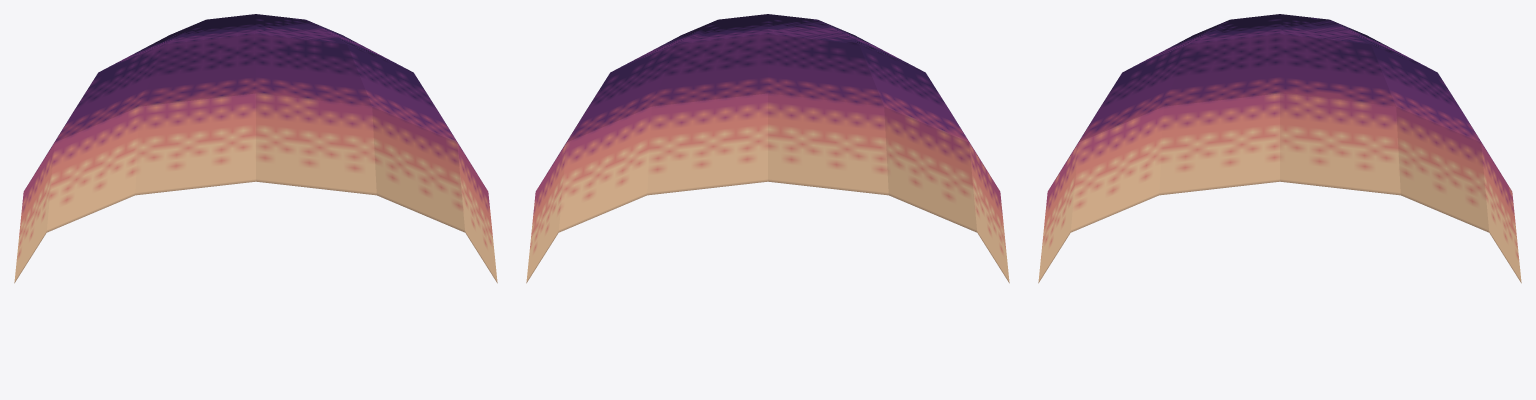
File: skyx.starfield.glb
3 renders of one model, left to right at view 1: azimuth 30°, elevation 25°; view 2: azimuth 150°, elevation 25°; view 3: azimuth 270°, elevation 25°, orthographic.
Parts seen in each view (by area): view 1: kit_shell_sky; view 2: kit_shell_sky; view 3: kit_shell_sky.
Boxes of the visible parts, x1,y1,x2,y2 form: kit_shell_sky: (14, 14, 497, 283); kit_shell_sky: (526, 14, 1009, 283); kit_shell_sky: (1038, 14, 1521, 283).
Bounding box in the file's own units: 596 × 336 × 596.
Materials: 1 (1 with a texture image).
